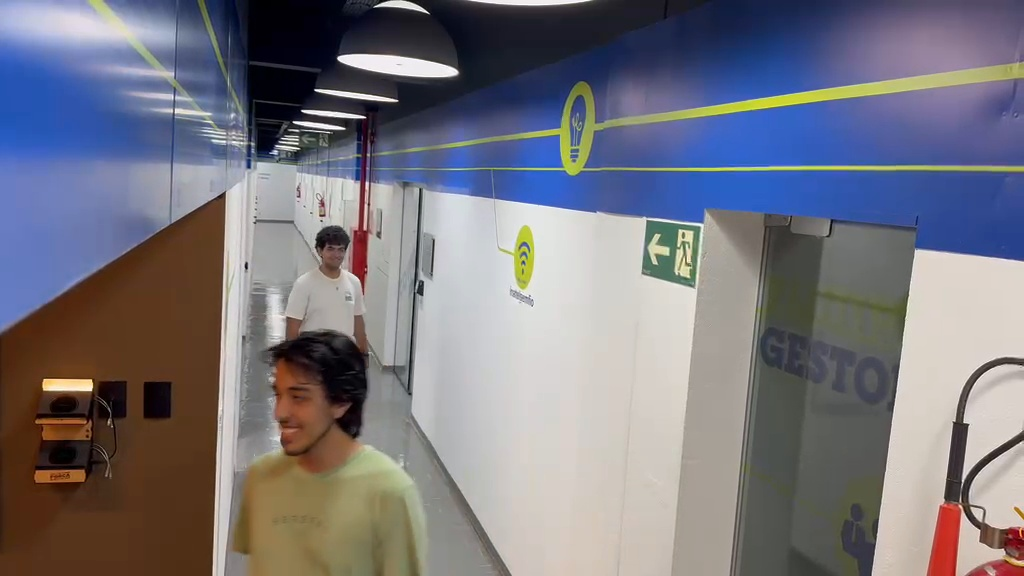person: (230, 330, 432, 573), (282, 225, 371, 358)
